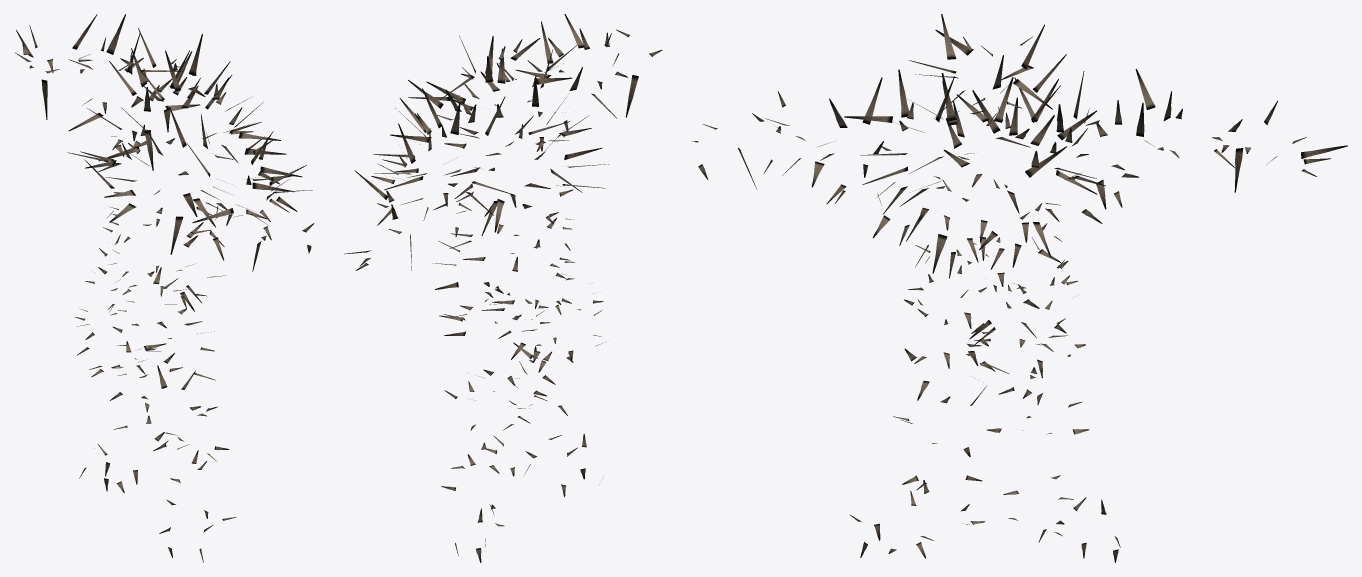
File: fur_cards_lod2.glb
3 renders of one model, left to right at view 1: azimuth 30°, elevation 25°; view 2: azimuth 150°, elevation 25°; view 3: azimuth 270°, elevation 25°, orthographic. The views are drawn at different scales.
Parts seen in each view (by area): view 1: FurCards_LOD2; view 2: FurCards_LOD2; view 3: FurCards_LOD2.
Boxes of the visible parts, x1,y1,x2,y2 form: FurCards_LOD2: [15, 14, 314, 562]; FurCards_LOD2: [344, 14, 662, 562]; FurCards_LOD2: [692, 14, 1347, 562].
Size of the model in its own units: 0.8491 by 2.08 by 2.28.
2 materials, 2 textured.
